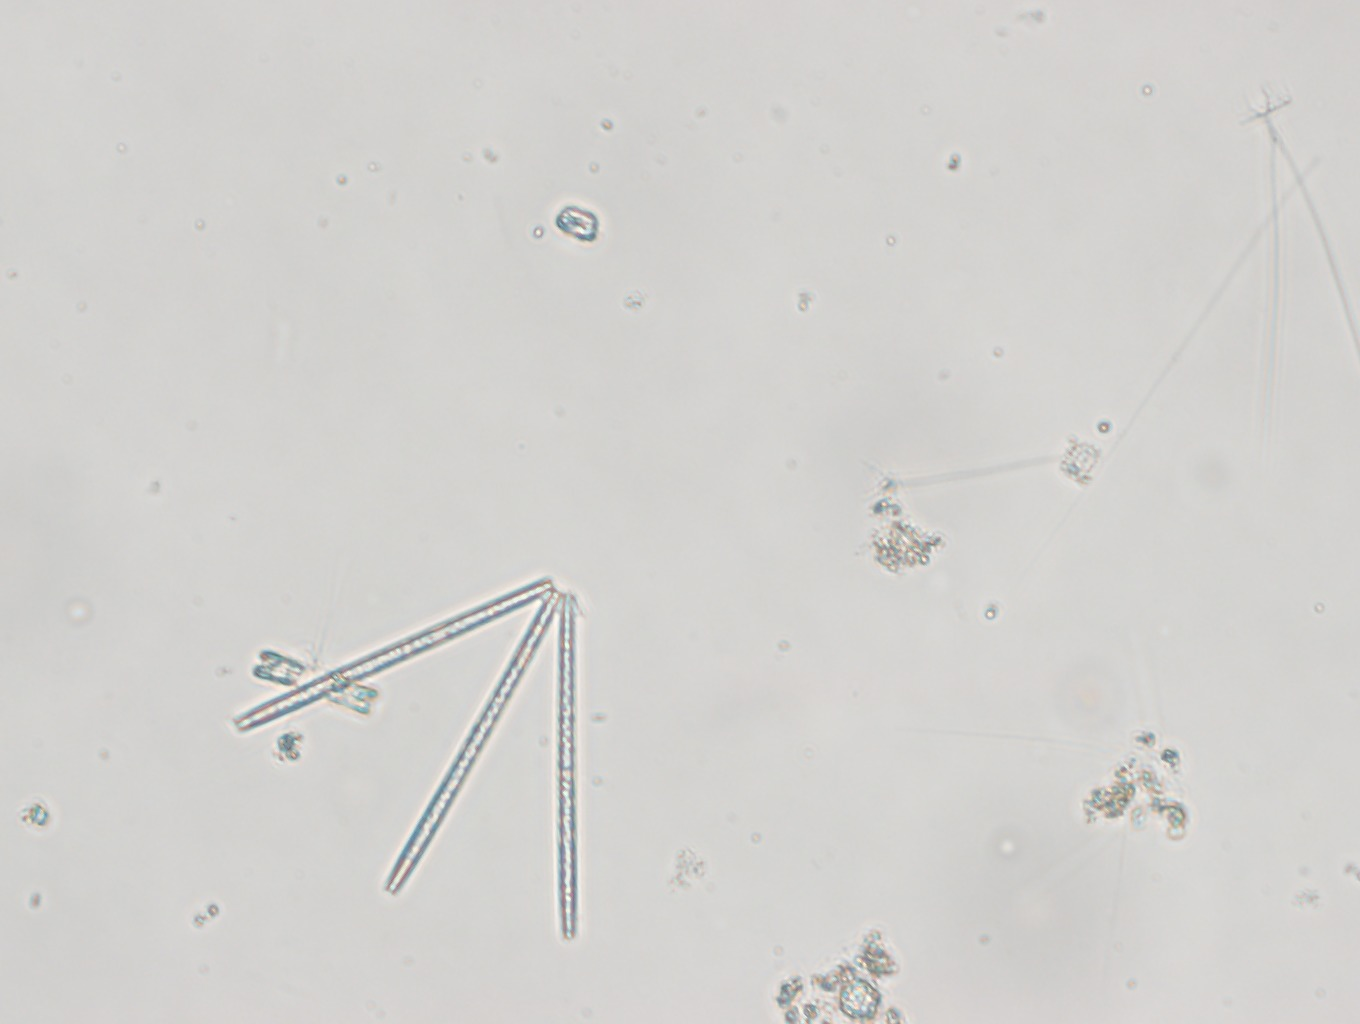chaetoceros: (1230, 70, 1360, 435)
thalassionema frauenfeldii: (232, 575, 575, 944)
